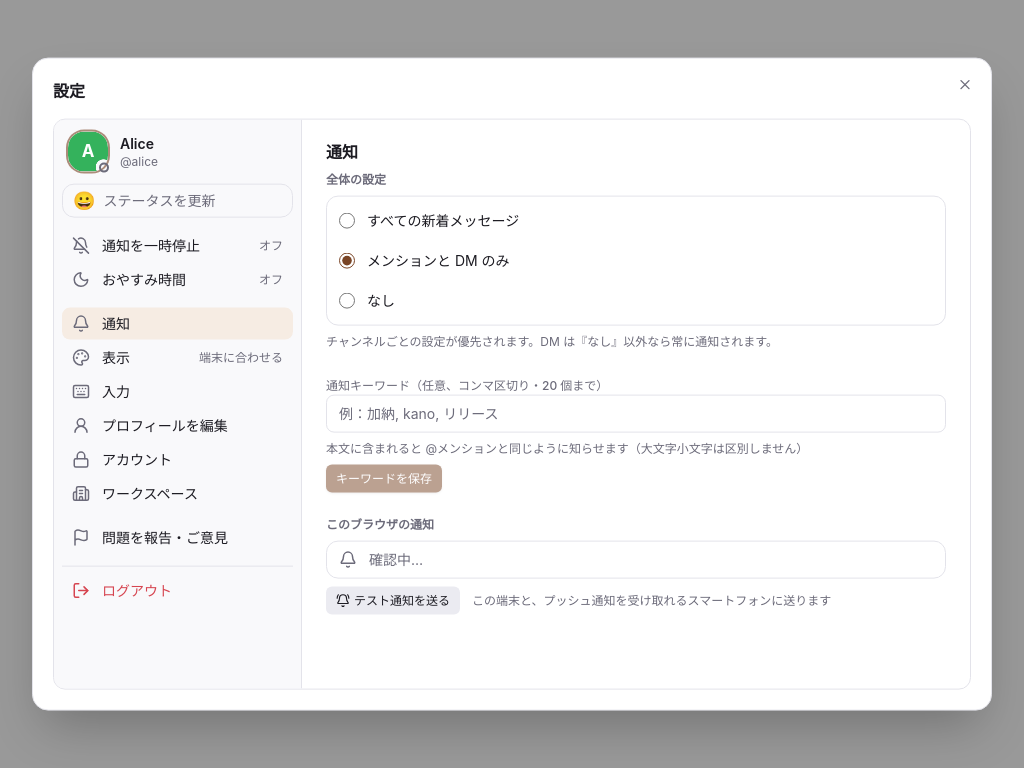
the settings' 「テスト通知を送る」 › sends and lists each device's result
The image size is (1024, 768).
Click the button "テスト通知を送る".
click(393, 601)  # box [326, 587, 460, 615]
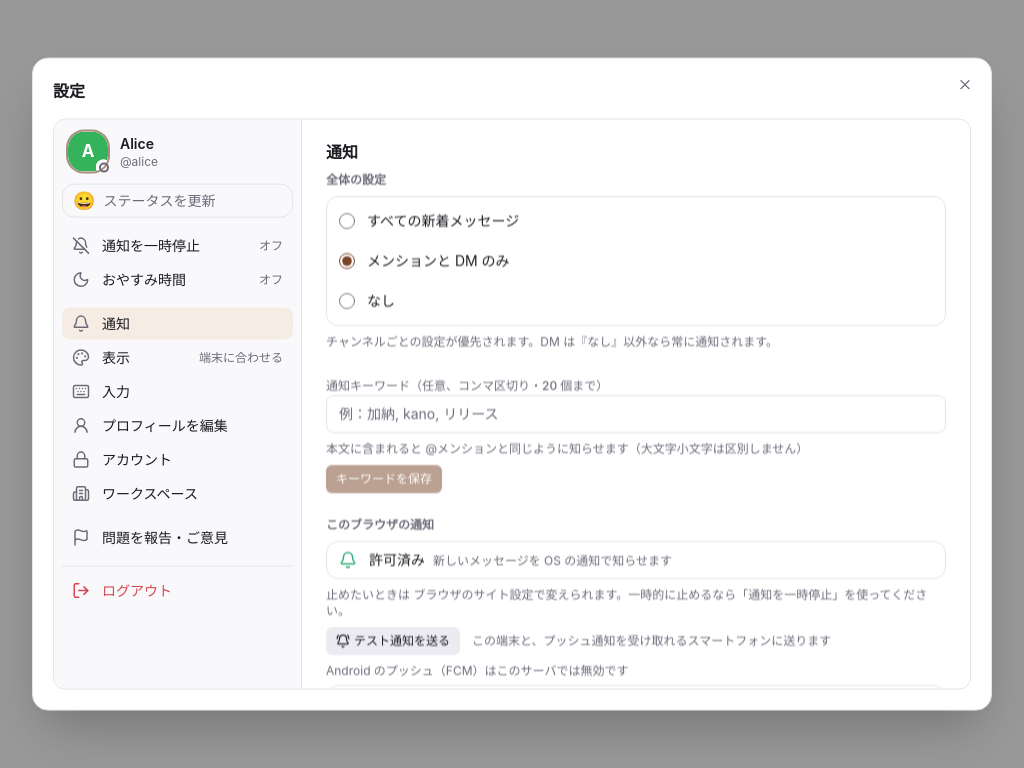
Check: the text "Android のプッシュ（FCM）はこのサーバでは無効です" is shown, box [326, 663, 628, 678]
